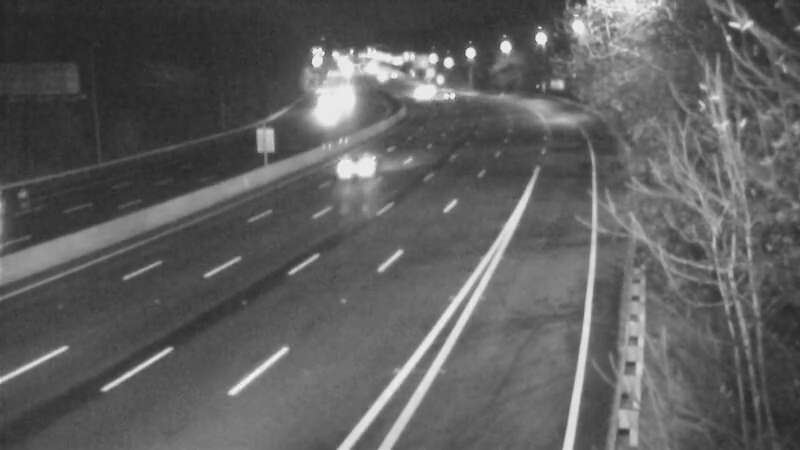vehicle: (317, 129, 397, 209), (1, 161, 63, 241), (398, 70, 448, 120), (423, 71, 473, 121)
